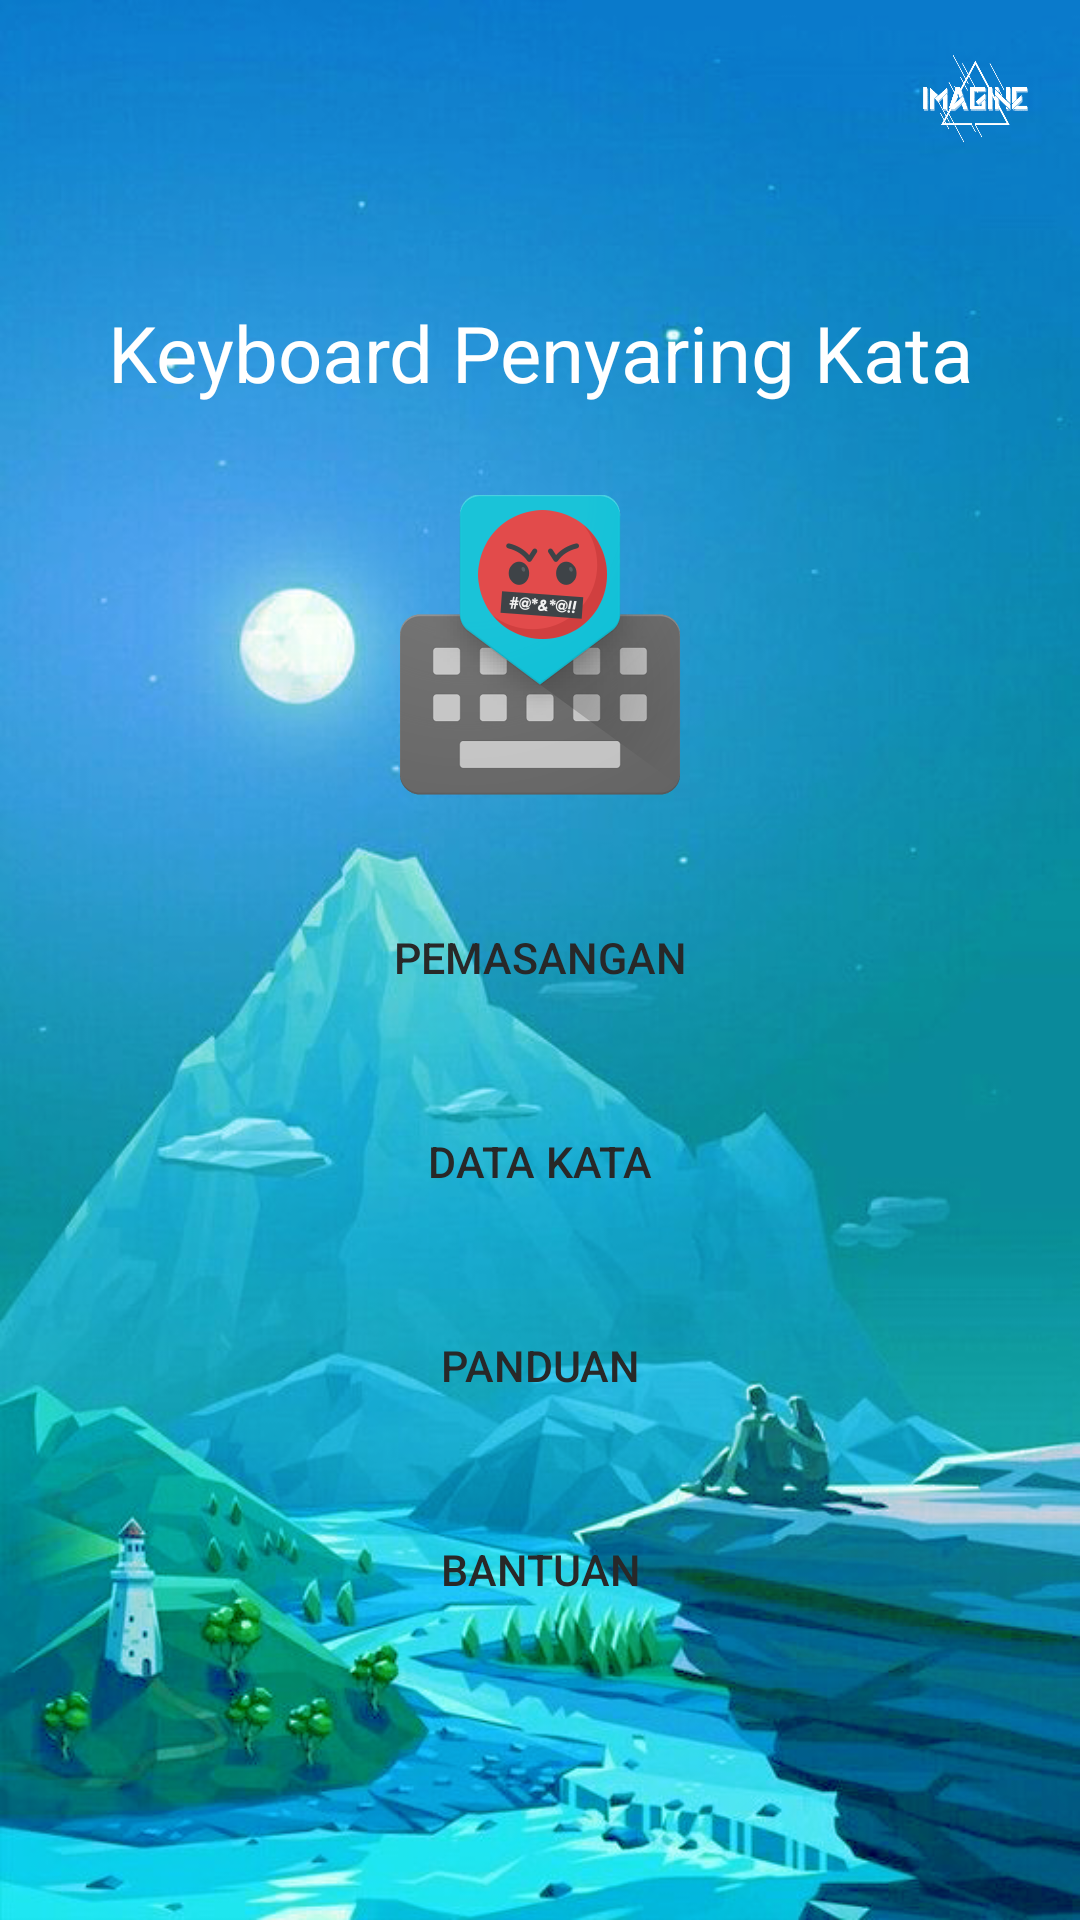

Point at icon controls on the screen. Image size 1080px x 1920px, points as point (x, y).
keyboard sehat: point (535, 645)
